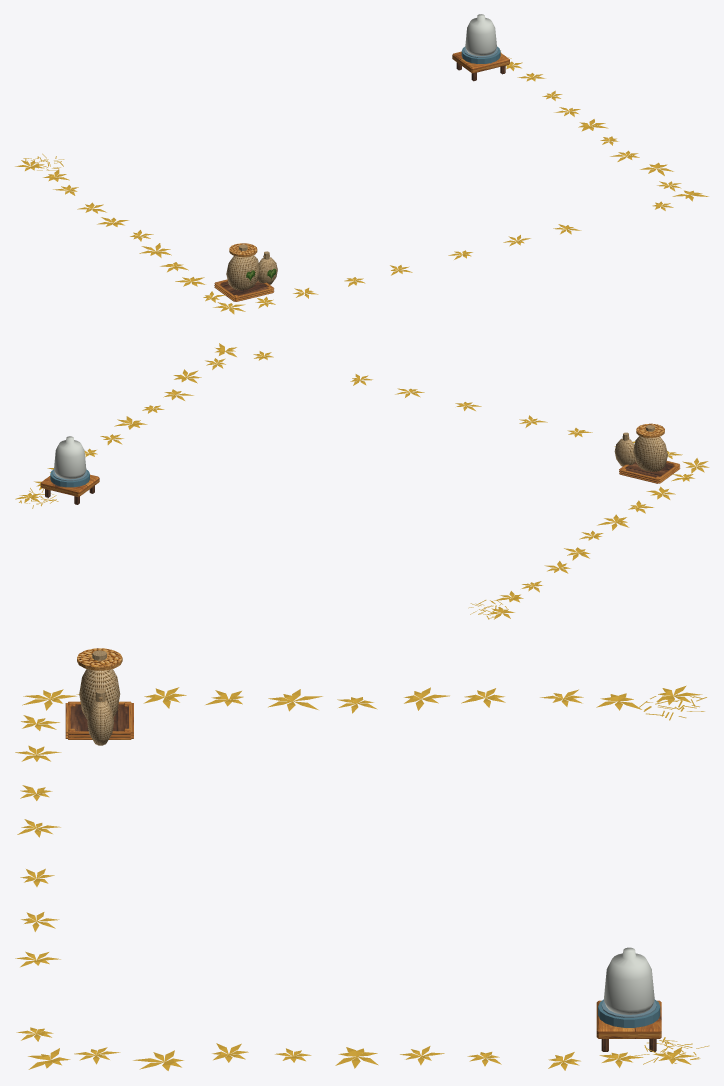
The model's file is CoopCozy_SetDressing.fbx.
3 renders of one model, top to bottom at view 1: azimuth 30°, elevation 25°; view 2: azimuth 150°, elevation 25°; view 3: azimuth 270°, elevation 25°, orthographic. The views are drawn at different scales.
Visible parts, largest first — view 1: CoopCozy_SetDressing; view 2: CoopCozy_SetDressing; view 3: CoopCozy_SetDressing.
Part boxes in pixels (x1=…): CoopCozy_SetDressing: x1=15, y1=14, x2=708, y2=314; CoopCozy_SetDressing: x1=15, y1=343, x2=709, y2=619; CoopCozy_SetDressing: x1=15, y1=648, x2=709, y2=1070.
Size of the model in its own units: 9.97 by 1.11 by 7.6.
